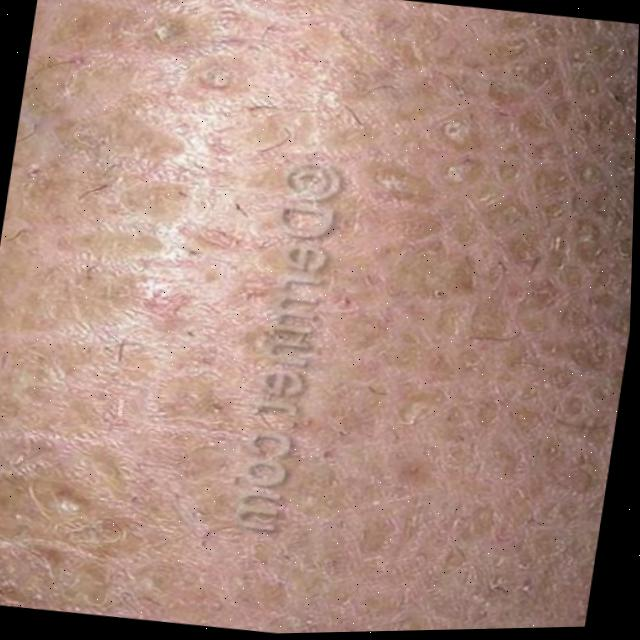Eczema: (63, 0, 640, 638)
